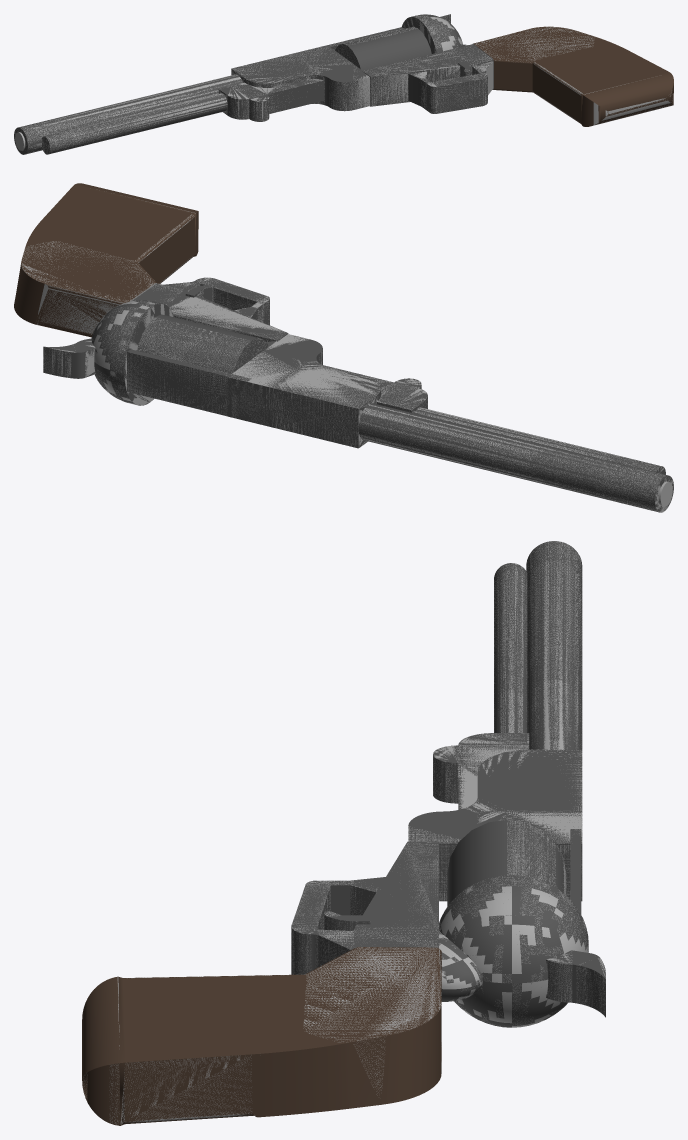
Rendered from Revolver Colour.fbx.
The picture shows the model from 3 angles, top to bottom: view 1: azimuth 30°, elevation 25°; view 2: azimuth 150°, elevation 25°; view 3: azimuth 270°, elevation 25°; orthographic projection. The views are drawn at different scales.
Visible parts, largest first — view 1: polySurface1, pCube19; view 2: polySurface1, pCube19; view 3: polySurface1, pCube19.
Part boxes in pixels (<box>): polySurface1: <box>14,14,673,154</box>; pCube19: <box>14,14,673,154</box>; polySurface1: <box>14,183,673,512</box>; pCube19: <box>21,199,673,512</box>; polySurface1: <box>82,541,605,1125</box>; pCube19: <box>83,541,605,1125</box>.
Size of the model in its own units: 53.03 by 6.51 by 22.16.
